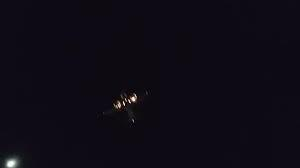Plane: (99, 83, 160, 134)
